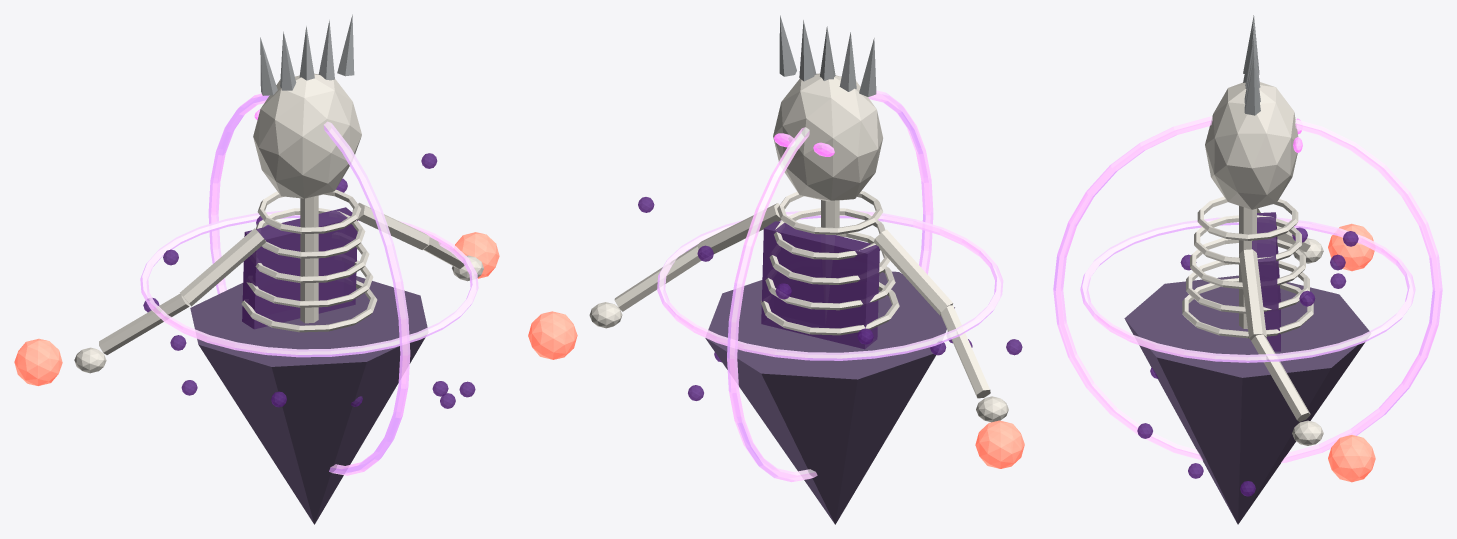
File: boss_02_syndicate_lich.glb
3 renders of one model, left to right at view 1: azimuth 30°, elevation 25°; view 2: azimuth 150°, elevation 25°; view 3: azimuth 270°, elevation 25°, orthographic. The views are drawn at different scales.
Parts seen in each view (by area): view 1: syndicate_lich_tattered_regal_robe_lower, syndicate_lich_skull, syndicate_lich_robe_chest_panel, syndicate_lich_combo_locked_barrier_ring_vertical, syndicate_lich_combo_locked_barrier_ring_horizontal, syndicate_lich_spine, syndicate_lich_upper_arm_bone_-1, syndicate_lich_marked_minion_order_orb_-1, syndicate_lich_forearm_bone_ordering_-1, syndicate_lich_rib_ring_3, syndicate_lich_rib_ring_4, syndicate_lich_rib_ring_0 (+8 smaller); view 2: syndicate_lich_tattered_regal_robe_lower, syndicate_lich_skull, syndicate_lich_robe_chest_panel, syndicate_lich_combo_locked_barrier_ring_vertical, syndicate_lich_combo_locked_barrier_ring_horizontal, syndicate_lich_upper_arm_bone_-1, syndicate_lich_marked_minion_order_orb_1, syndicate_lich_marked_minion_order_orb_-1, syndicate_lich_forearm_bone_ordering_-1, syndicate_lich_forearm_bone_ordering_1, syndicate_lich_rib_ring_3, syndicate_lich_rib_ring_0 (+9 smaller); view 3: syndicate_lich_tattered_regal_robe_lower, syndicate_lich_combo_locked_barrier_ring_vertical, syndicate_lich_skull, syndicate_lich_combo_locked_barrier_ring_horizontal, syndicate_lich_robe_chest_panel, syndicate_lich_marked_minion_order_orb_1, syndicate_lich_upper_arm_bone_1, syndicate_lich_forearm_bone_ordering_1, syndicate_lich_rib_ring_0, syndicate_lich_rib_ring_1, syndicate_lich_rib_ring_4, syndicate_lich_marked_minion_order_orb_-1 (+5 smaller).
Part boxes in pixels (left/top/right/bottom): syndicate_lich_tattered_regal_robe_lower: left=190, top=276, right=427, bottom=524; syndicate_lich_skull: left=253, top=73, right=361, bottom=198; syndicate_lich_robe_chest_panel: left=242, top=207, right=357, bottom=329; syndicate_lich_combo_locked_barrier_ring_vertical: left=208, top=93, right=410, bottom=475; syndicate_lich_combo_locked_barrier_ring_horizontal: left=140, top=210, right=478, bottom=357; syndicate_lich_spine: left=300, top=195, right=318, bottom=323; syndicate_lich_upper_arm_bone_-1: left=180, top=228, right=265, bottom=306; syndicate_lich_marked_minion_order_orb_-1: left=14, top=338, right=62, bottom=385; syndicate_lich_forearm_bone_ordering_-1: left=99, top=293, right=189, bottom=354; syndicate_lich_rib_ring_3: left=256, top=208, right=365, bottom=258; syndicate_lich_rib_ring_4: left=257, top=189, right=361, bottom=234; syndicate_lich_rib_ring_0: left=241, top=280, right=377, bottom=332; syndicate_lich_tattered_regal_robe_lower: left=705, top=271, right=954, bottom=524; syndicate_lich_skull: left=773, top=73, right=882, bottom=201; syndicate_lich_robe_chest_panel: left=761, top=221, right=879, bottom=349; syndicate_lich_combo_locked_barrier_ring_vertical: left=727, top=90, right=933, bottom=482; syndicate_lich_combo_locked_barrier_ring_horizontal: left=657, top=210, right=1003, bottom=360; syndicate_lich_upper_arm_bone_-1: left=874, top=229, right=952, bottom=315; syndicate_lich_marked_minion_order_orb_1: left=528, top=311, right=577, bottom=359; syndicate_lich_marked_minion_order_orb_-1: left=975, top=420, right=1024, bottom=468; syndicate_lich_forearm_bone_ordering_-1: left=941, top=305, right=990, bottom=398; syndicate_lich_forearm_bone_ordering_1: left=614, top=244, right=701, bottom=311; syndicate_lich_rib_ring_3: left=774, top=208, right=885, bottom=259; syndicate_lich_rib_ring_0: left=760, top=282, right=899, bottom=335; syndicate_lich_tattered_regal_robe_lower: left=1124, top=275, right=1369, bottom=524; syndicate_lich_combo_locked_barrier_ring_vertical: left=1053, top=116, right=1442, bottom=463; syndicate_lich_skull: left=1205, top=82, right=1298, bottom=209; syndicate_lich_combo_locked_barrier_ring_horizontal: left=1080, top=217, right=1415, bottom=362; syndicate_lich_robe_chest_panel: left=1252, top=212, right=1280, bottom=351; syndicate_lich_marked_minion_order_orb_1: left=1328, top=435, right=1375, bottom=482; syndicate_lich_upper_arm_bone_1: left=1239, top=249, right=1266, bottom=340; syndicate_lich_forearm_bone_ordering_1: left=1251, top=334, right=1310, bottom=421; syndicate_lich_rib_ring_0: left=1182, top=278, right=1313, bottom=338; syndicate_lich_rib_ring_1: left=1186, top=257, right=1309, bottom=313; syndicate_lich_rib_ring_4: left=1197, top=196, right=1298, bottom=240; syndicate_lich_marked_minion_order_orb_-1: left=1328, top=223, right=1374, bottom=271.
Size of the model in its own units: 2.74 by 2.7 by 1.95.
